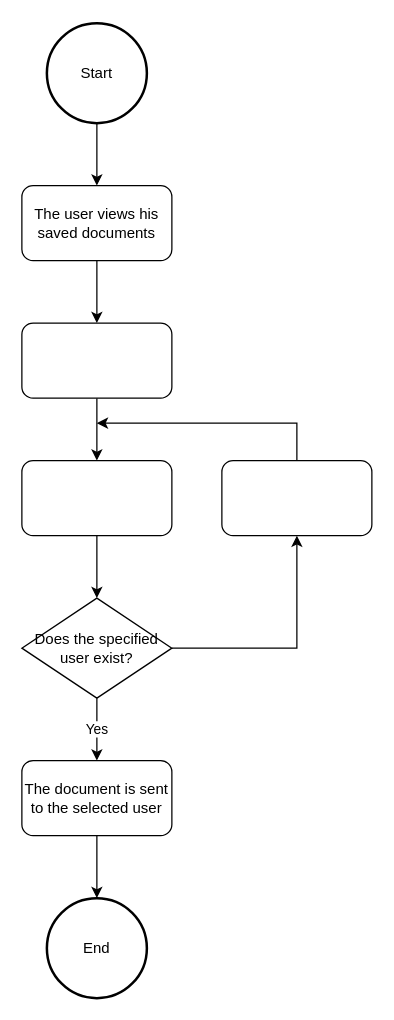
Some shapes in this 394 by 1020 pixel diagram are drawn without their labels. The shapes that lost their labels are listed below. From the top down, each one's box as (x1, y1, x2, y2) in pixels, then its label:
(21, 322, 172, 398): The user chooses one document to send to another user
(21, 459, 172, 536): The user chooses a username to send the letter to
(221, 459, 372, 536): An error message is shown
